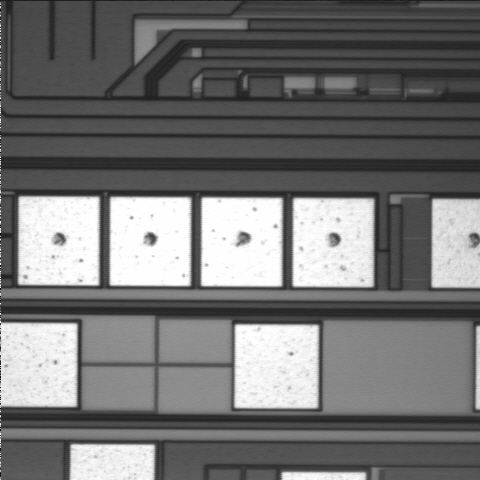pad: (110, 197, 191, 286), (201, 198, 282, 287), (293, 198, 374, 287), (18, 197, 99, 285), (235, 324, 319, 408)
